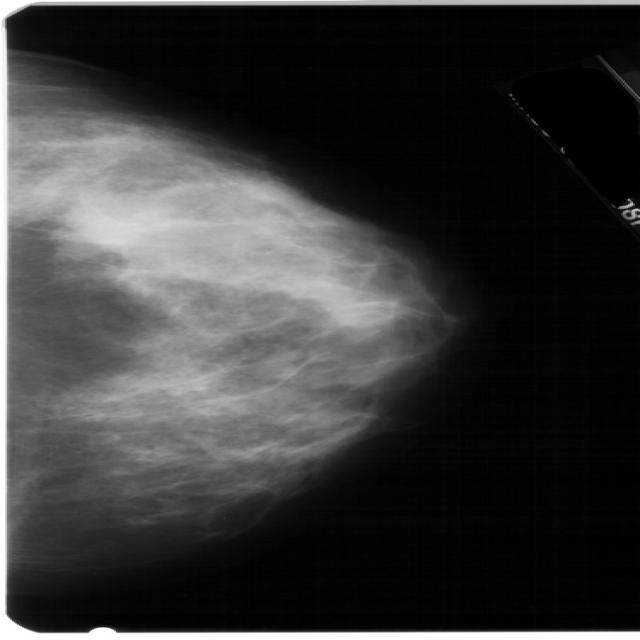tumour: (63, 190, 171, 247)
